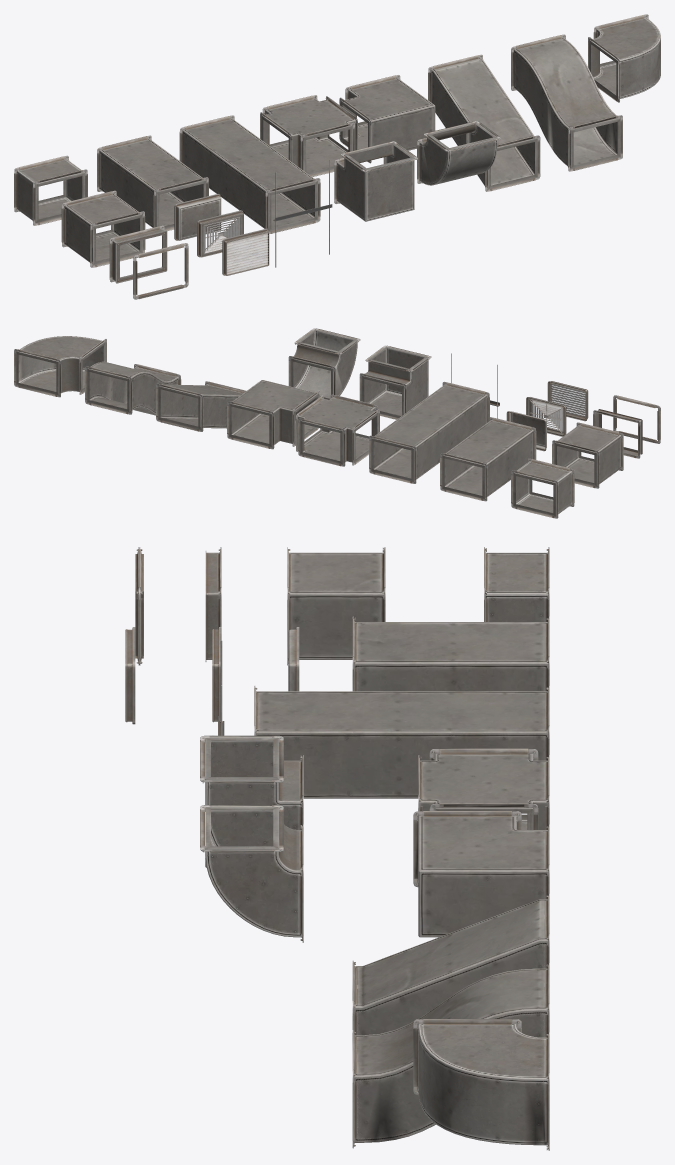
File: modular_airduct_rectangular_01.glb
3 renders of one model, top to bottom at view 1: azimuth 30°, elevation 25°; view 2: azimuth 150°, elevation 25°; view 3: azimuth 270°, elevation 25°, orthographic. The views are drawn at different scales.
Parts seen in each view (by area): view 1: modular_airduct_rectangular_01_single_01; view 2: modular_airduct_rectangular_01_single_01; view 3: modular_airduct_rectangular_01_single_01.
Boxes of the visible parts, box(x1,y1,x2,y2) form: modular_airduct_rectangular_01_single_01: box(14, 14, 660, 299); modular_airduct_rectangular_01_single_01: box(14, 328, 660, 518); modular_airduct_rectangular_01_single_01: box(125, 547, 549, 1150).
Bounding box in the file's own units: 7.66 × 1.26 × 2.59.
2 materials, 2 textured.
